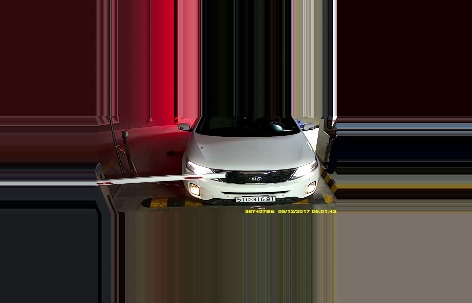plate: (234, 191, 274, 206)
